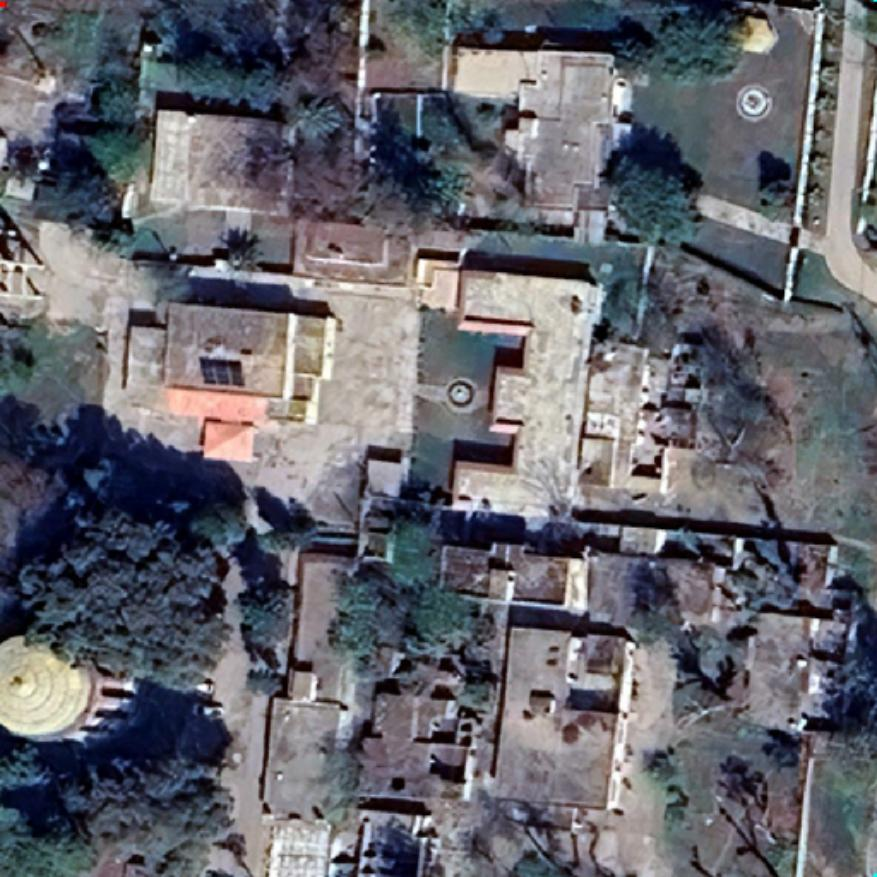Solarpanel: (196, 352, 248, 390)
